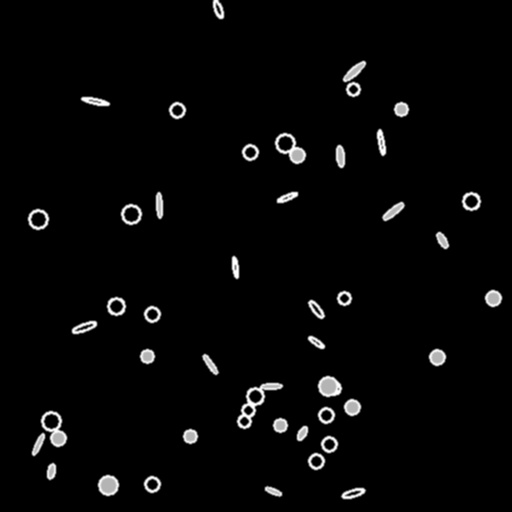pseudomonas: (342, 60, 366, 82), (381, 201, 405, 221), (201, 353, 219, 375), (71, 320, 97, 334), (307, 299, 325, 319), (341, 486, 365, 500), (31, 433, 45, 455), (81, 96, 109, 106), (276, 191, 298, 203), (307, 335, 325, 349), (295, 425, 309, 441), (435, 232, 449, 248), (264, 485, 282, 497), (212, 0, 224, 18), (377, 129, 385, 155), (336, 145, 344, 167), (46, 463, 56, 479), (231, 257, 239, 277), (156, 192, 162, 218), (260, 383, 282, 389)
synechocystis: (99, 476, 117, 494), (276, 134, 294, 152), (29, 210, 47, 228), (122, 205, 140, 223), (319, 377, 337, 395), (42, 412, 60, 430), (463, 193, 479, 209), (247, 388, 263, 404), (108, 298, 124, 314), (319, 408, 333, 422), (170, 103, 184, 117), (345, 400, 359, 414), (145, 477, 159, 491), (243, 145, 257, 159), (290, 148, 304, 162), (486, 291, 500, 305), (145, 307, 159, 321), (430, 350, 444, 364), (309, 454, 323, 468), (51, 431, 65, 445), (322, 437, 336, 451), (395, 103, 407, 115), (328, 382, 340, 394), (184, 430, 196, 442), (274, 419, 286, 431), (338, 292, 350, 304), (347, 83, 359, 95), (141, 350, 153, 362), (238, 415, 250, 427), (242, 404, 254, 416)
